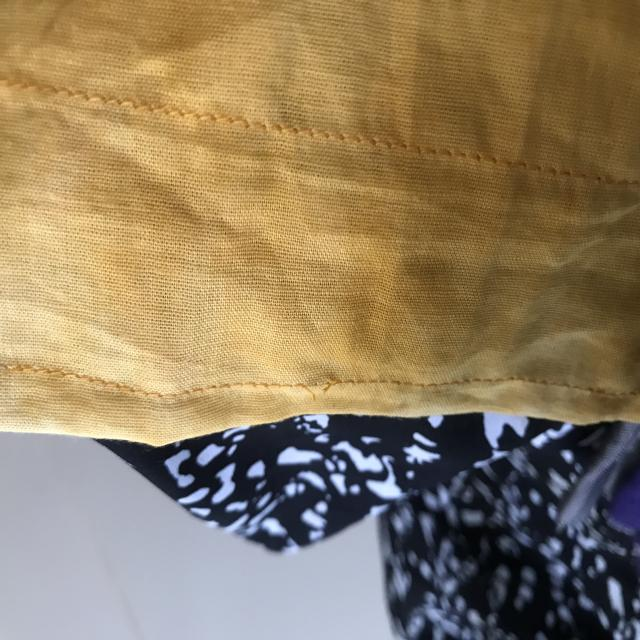broken: (292, 368, 346, 404)
